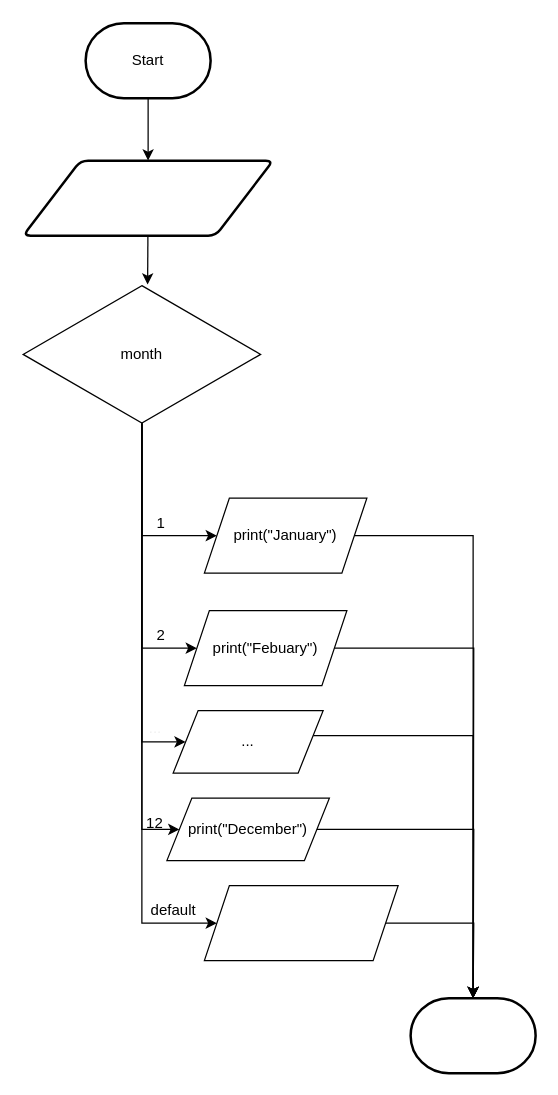
This 558x1095 diagram has some shape labels left out. Each missing label, with the centre of its shape:
get number between 1-12: pixel 147 197
print("Invalid number"): pixel 300 922
Stop: pixel 472 1035
